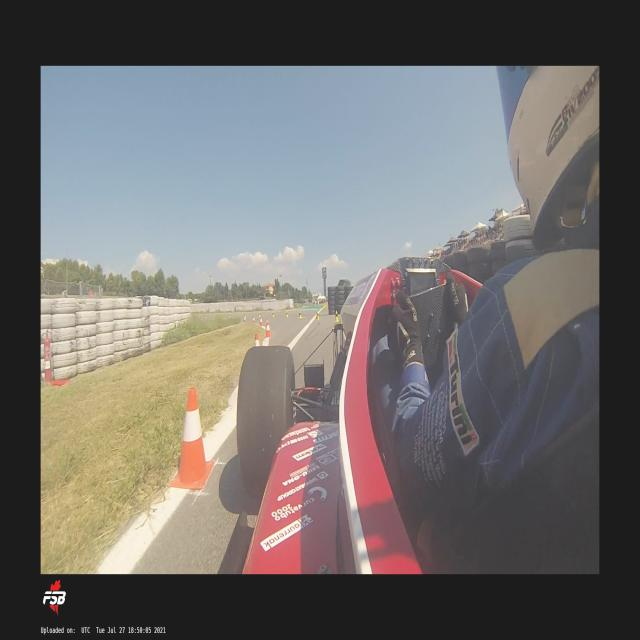orange_cone: (170, 388, 214, 488), (265, 321, 270, 337), (254, 334, 260, 346), (259, 316, 263, 326), (266, 318, 268, 330), (252, 316, 255, 324), (243, 316, 246, 322)
yellow_cone: (316, 310, 320, 320), (335, 311, 338, 321), (298, 311, 302, 318), (286, 312, 288, 318), (258, 312, 260, 318), (272, 312, 274, 316)
